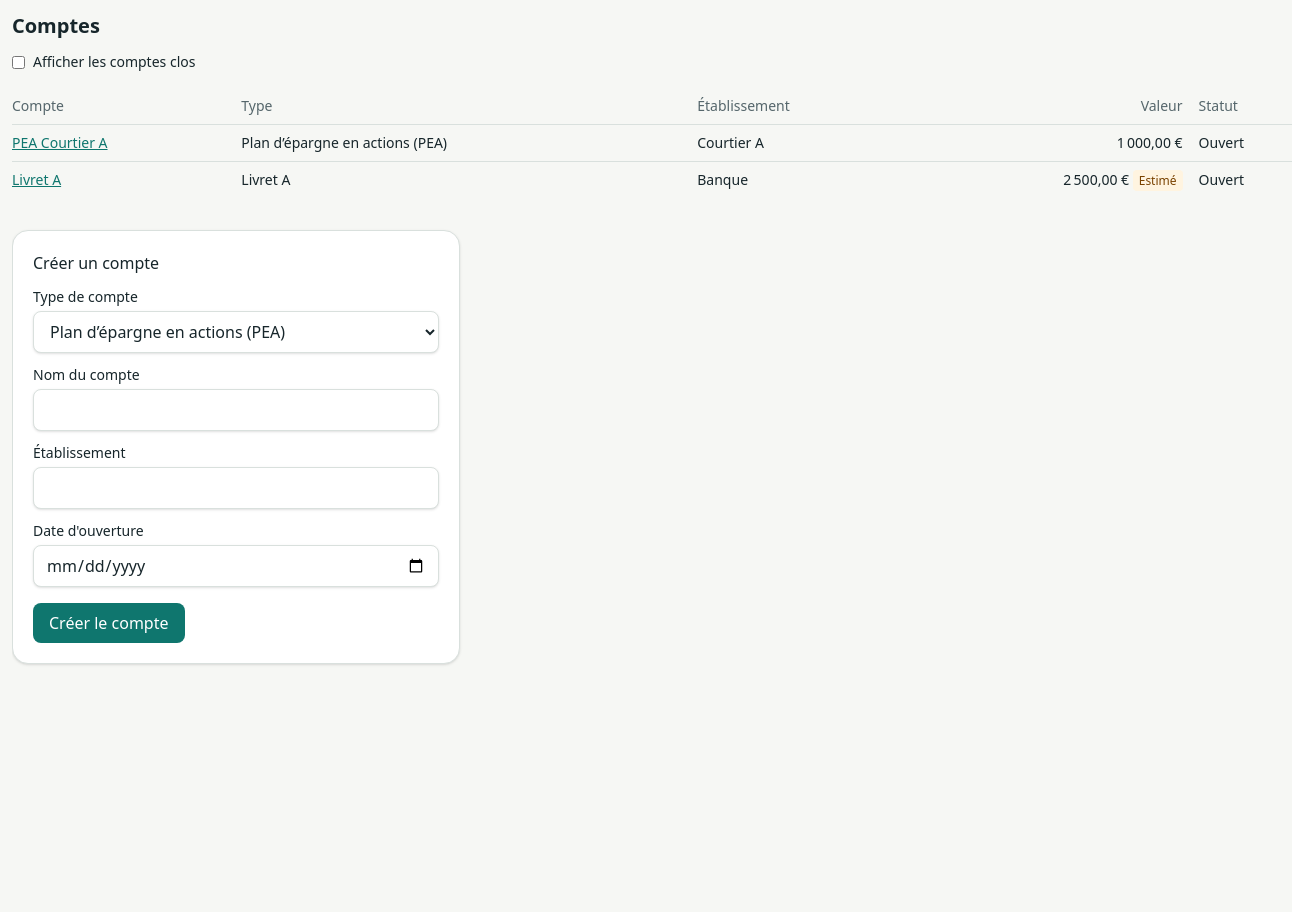
Scenario: création d’un compte › signale un nom déjà pris
This screenshot has width=1292, height=912.
Expected: the table named "Comptes" is shown, top-left (12, 88), bottom-right (1291, 198)
In the field labelled "Nom du compte": [236, 410] box top-left (33, 389), bottom-right (439, 431), type "PEA"
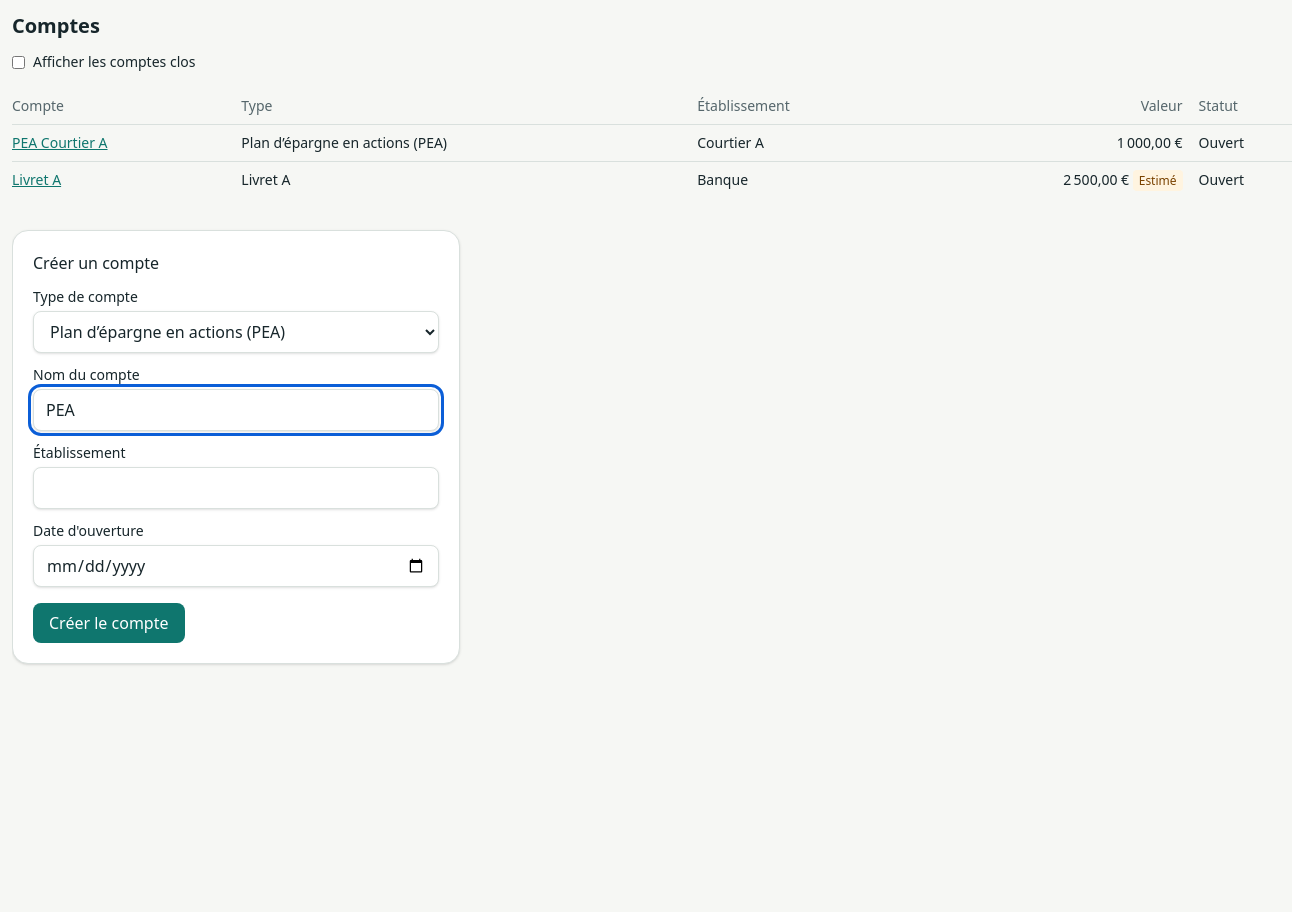
In the date field labelled "Date d'ouverture": [236, 566] box top-left (33, 545), bottom-right (439, 587), type "2026-01-02"
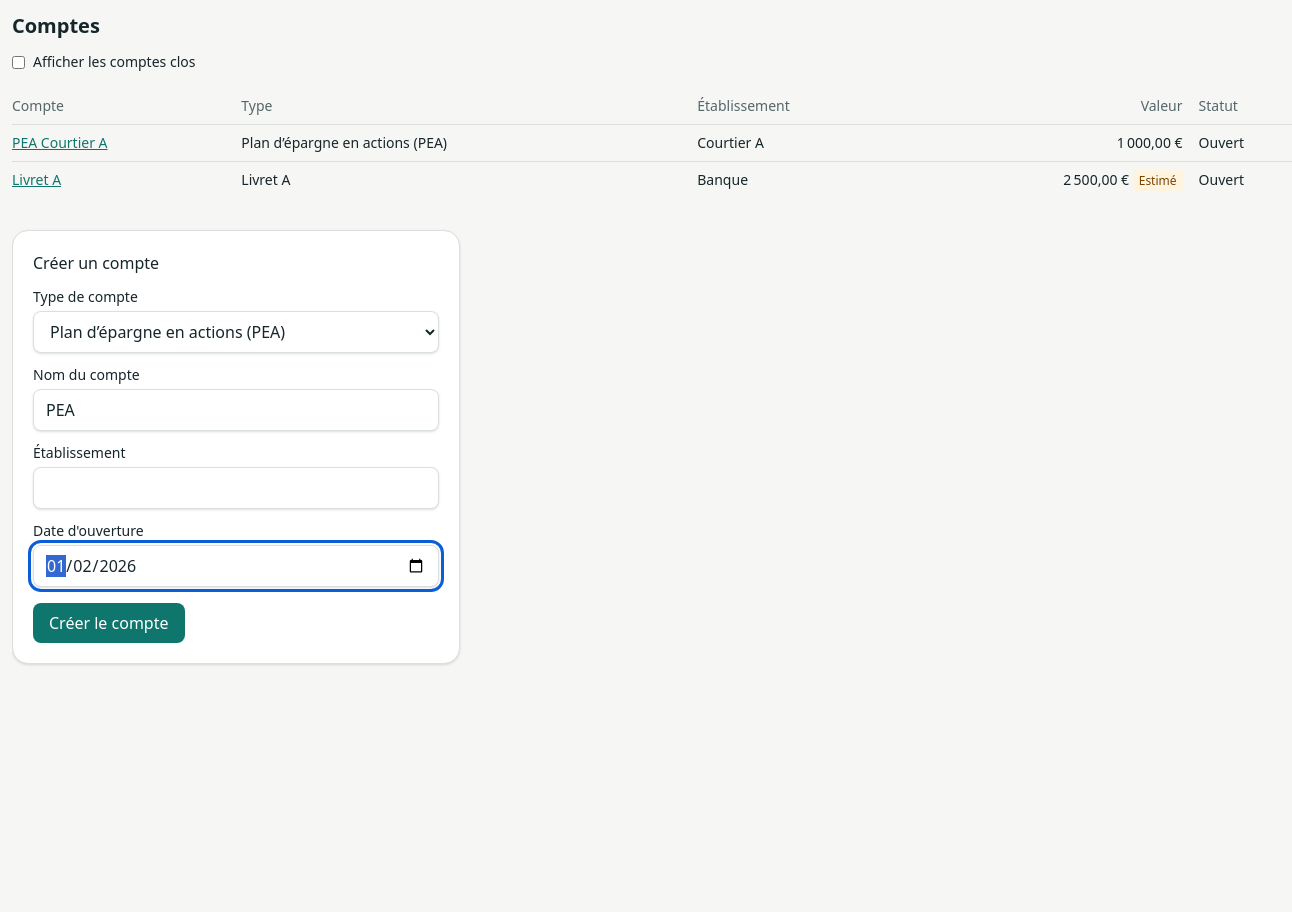
Click the button "Créer le compte": [109, 623] box top-left (33, 603), bottom-right (184, 643)
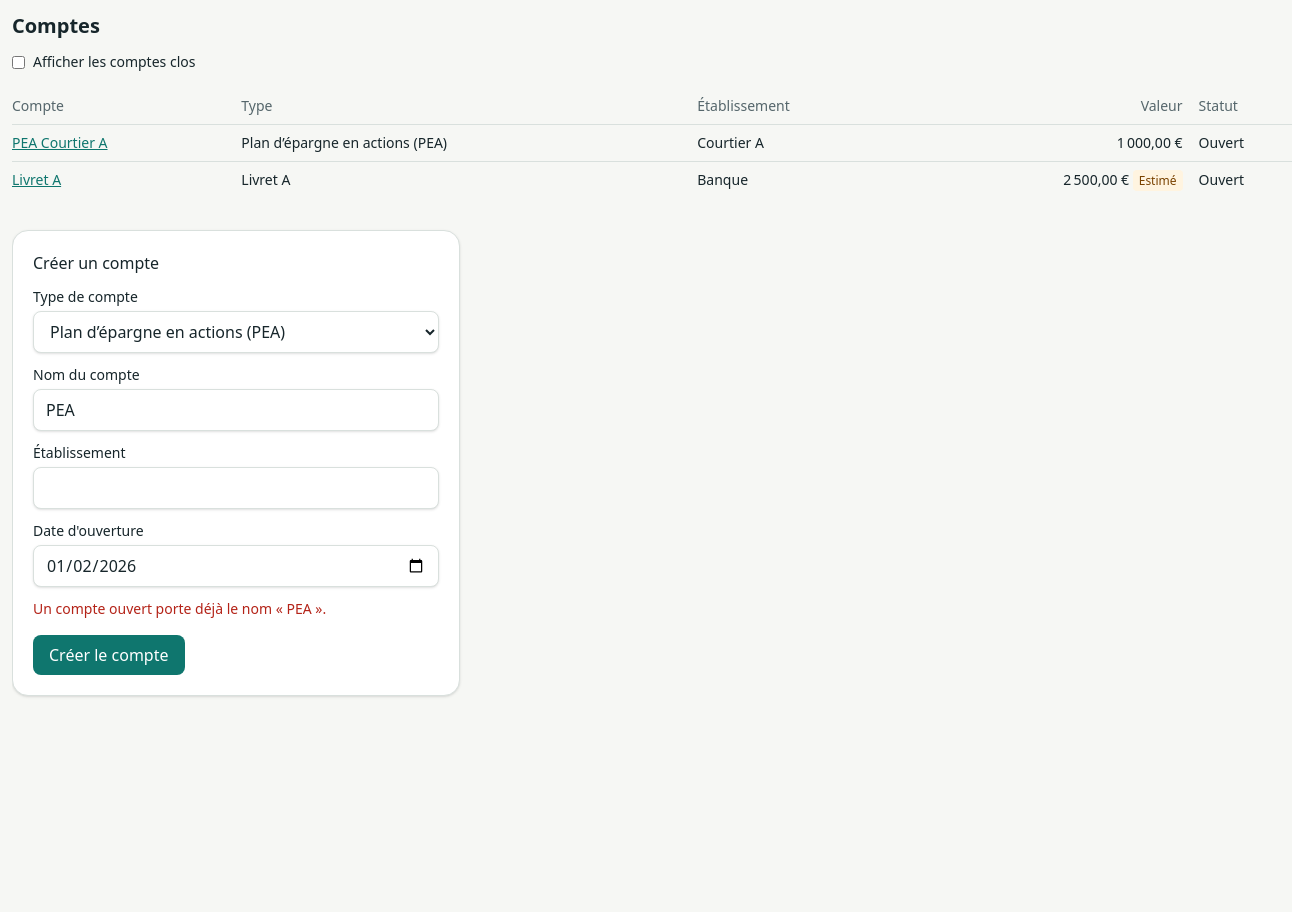
Result: the message shows "porte déjà le nom" at top-left (33, 599), bottom-right (326, 618)
